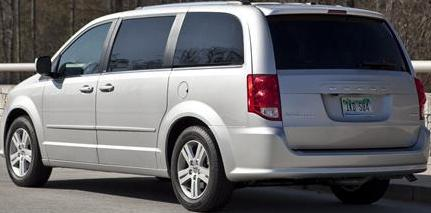back_view: (237, 58, 428, 167)
backlight: (234, 68, 295, 129)
side_glass: (52, 15, 193, 68)
